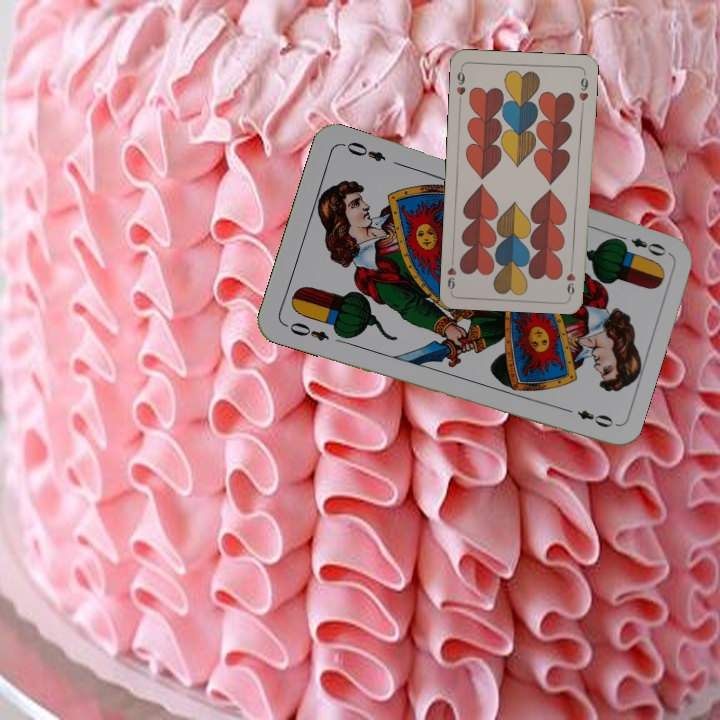EO: (612, 230, 669, 259), (280, 318, 332, 344)
H9: (452, 64, 468, 104), (564, 257, 578, 298)
